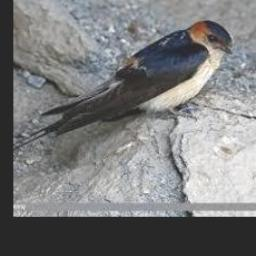Swallow: (13, 21, 233, 150)
